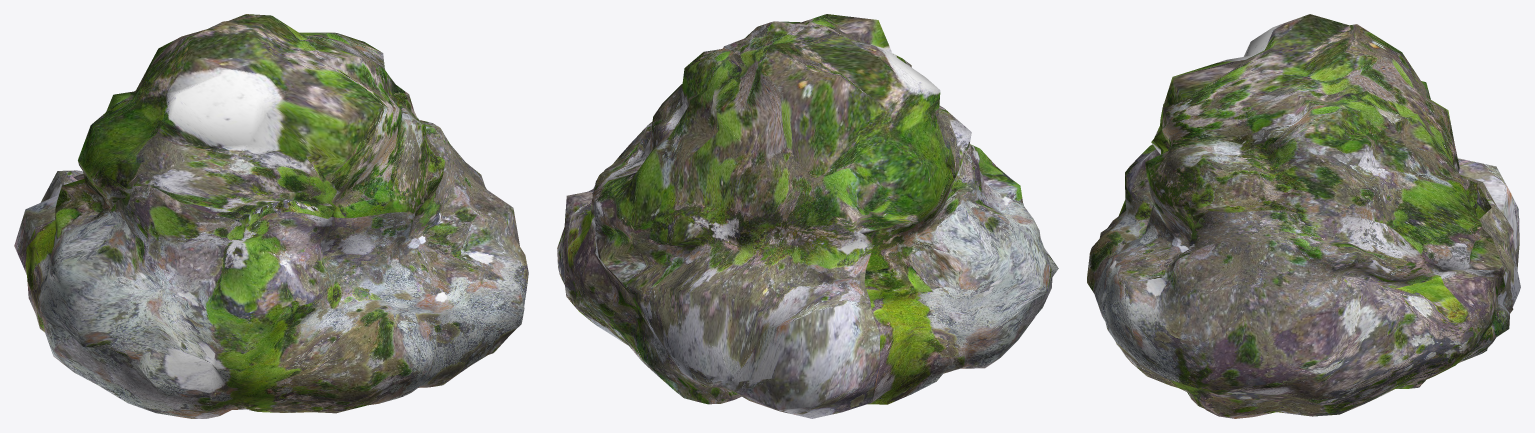
The model's file is Piedra 4.glb.
The picture shows the model from 3 angles, left to right: view 1: azimuth 30°, elevation 25°; view 2: azimuth 150°, elevation 25°; view 3: azimuth 270°, elevation 25°; orthographic projection. The views are drawn at different scales.
Visible parts, largest first — view 1: Piedra 4; view 2: Piedra 4; view 3: Piedra 4.
Boxes of the visible parts, x1,y1,x2,y2 form: Piedra 4: (14, 14, 528, 418); Piedra 4: (557, 14, 1058, 418); Piedra 4: (1087, 14, 1520, 418).
Bounding box in the file's own units: 1.97 × 1.38 × 1.79.
Materials: 1 (1 with a texture image).
